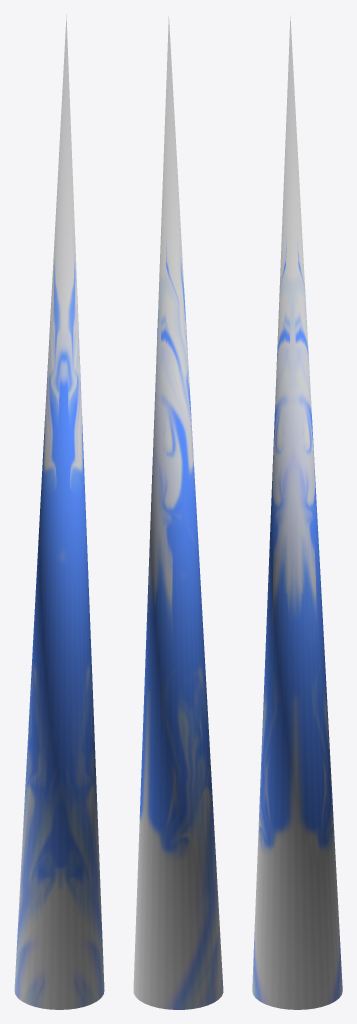
File: Ice Object.fbx
3 views of the same model, side by side, from view 1: azimuth 90°, elevation 25°; view 2: azimuth 210°, elevation 25°; view 3: azimuth 270°, elevation 25° (orthographic).
Parts seen in each view (by area): view 1: Cylinder; view 2: Cylinder; view 3: Cylinder.
Boxes of the visible parts, bbox=[...] form: Cylinder: bbox=[14, 14, 104, 1009]; Cylinder: bbox=[133, 16, 223, 1009]; Cylinder: bbox=[252, 15, 342, 1009].
Bounding box in the file's own units: 40.42 × 482 × 40.42.
